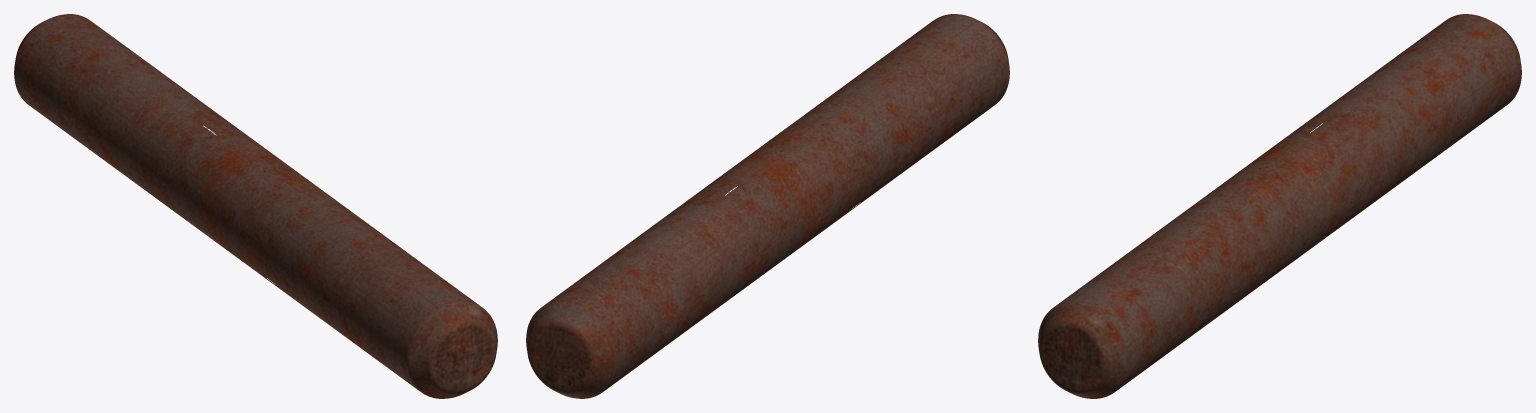
3 views of the same model, side by side, from view 1: azimuth 30°, elevation 25°; view 2: azimuth 150°, elevation 25°; view 3: azimuth 330°, elevation 25° (orthographic).
Bounding box in the file's own units: 0.2509 × 0.251 × 1.99.
1 material, 1 textured.
